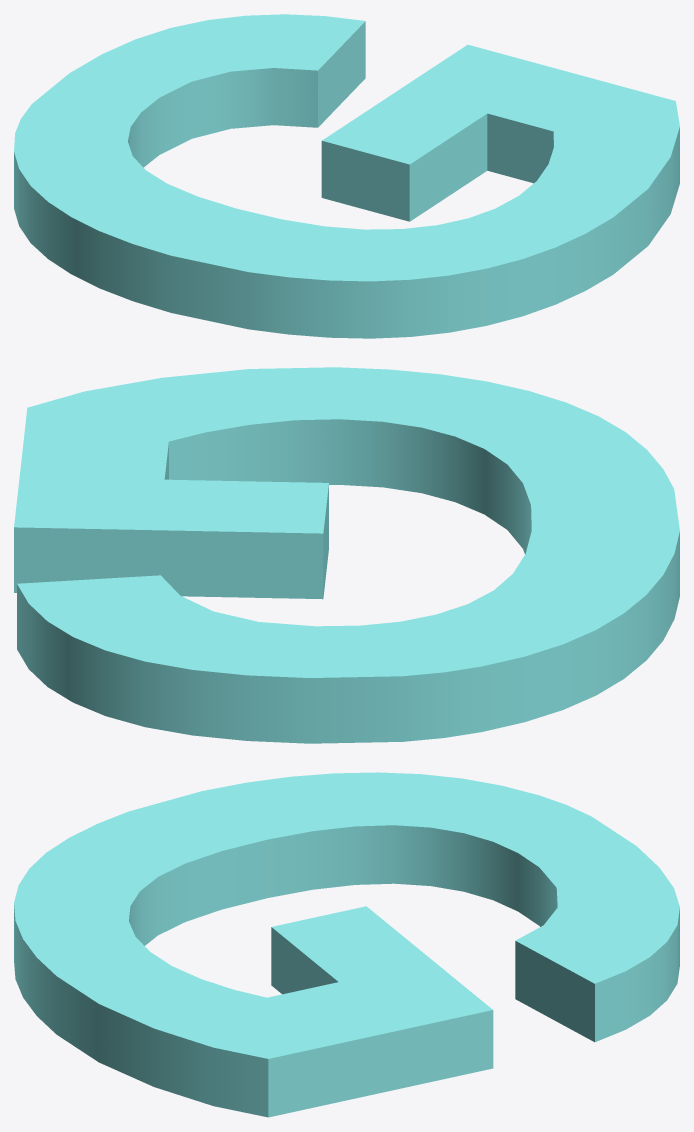
File: original-14.obj
3 renders of one model, top to bottom at view 1: azimuth 30°, elevation 25°; view 2: azimuth 150°, elevation 25°; view 3: azimuth 270°, elevation 25°, orthographic. The views are drawn at different scales.
Visible parts, largest first — view 1: mesh30/mesh30-geometry#mesh30-geometry; view 2: mesh30/mesh30-geometry#mesh30-geometry; view 3: mesh30/mesh30-geometry#mesh30-geometry.
Part boxes in pixels (x1,y1,x2,y2): mesh30/mesh30-geometry#mesh30-geometry: (14,14,679,338); mesh30/mesh30-geometry#mesh30-geometry: (14,367,679,743); mesh30/mesh30-geometry#mesh30-geometry: (14,772,679,1117).
Size of the model in its own units: 0.0411 by 0.00391 by 0.0404.
